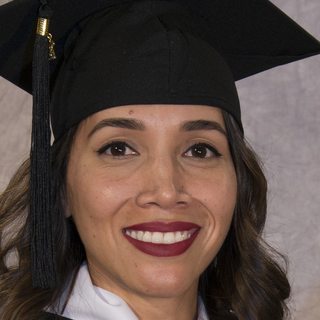eye: (93, 136, 143, 162), (177, 139, 224, 164)
